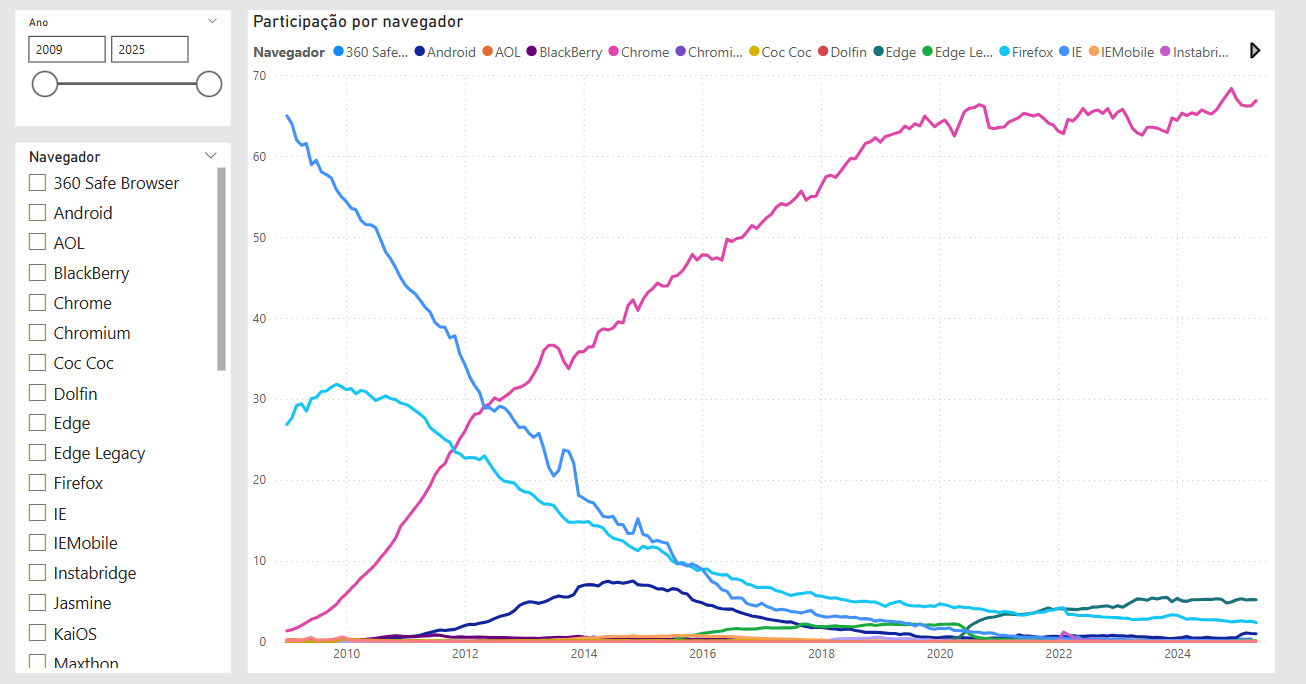

The dashboard page shown, as its layout file describes it:
{"tool":"powerbi","page":{"name":"Página 1","canvas":[1280,720],"ordinal":0},"visuals":[{"type":"lineChart","title":"Participação por navegador","fields":{"Category":["ParticipacaoMensalBrowsers.Data"],"Y":["Max(ParticipacaoMensalBrowsers.Participação)"],"Series":["ParticipacaoMensalBrowsers.Navegador"]},"box":[240,16,992,640],"z":0},{"type":"slicer","fields":{"Values":["ParticipacaoMensalBrowsers.Navegador"]},"box":[16,144,208,512],"z":1},{"type":"slicer","fields":{"Values":["ParticipacaoMensalBrowsers.Ano"]},"box":[16,16,208,112],"z":2}]}

Visuals, with their boxes in screenshot pixels (x1, y1, x2, y2):
"Participação por navegador" lineChart: <box>244,55,1140,633</box>
slicer - ParticipacaoMensalBrowsers.Navegador: <box>42,171,230,633</box>
slicer - ParticipacaoMensalBrowsers.Ano: <box>42,55,230,156</box>
